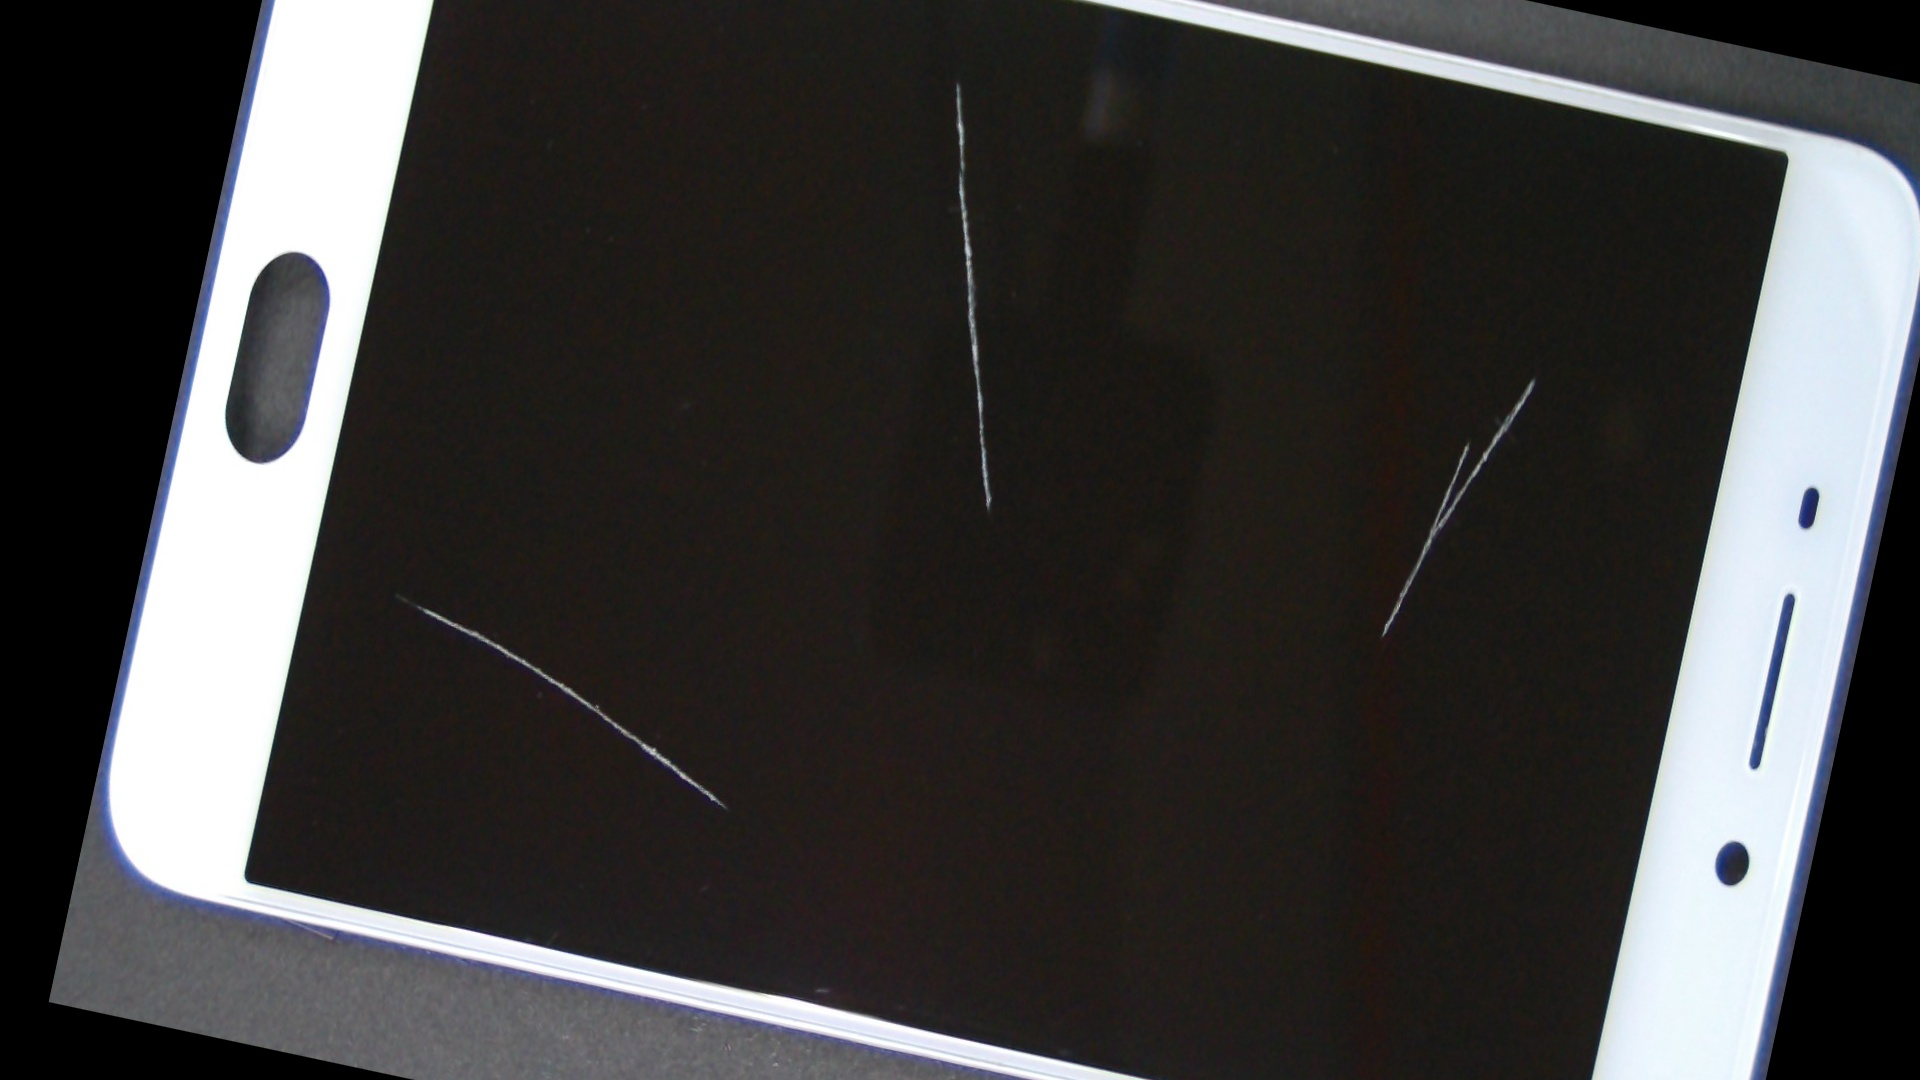oil: (849, 59, 1920, 636), (186, 167, 605, 1021), (597, 0, 1321, 252)
